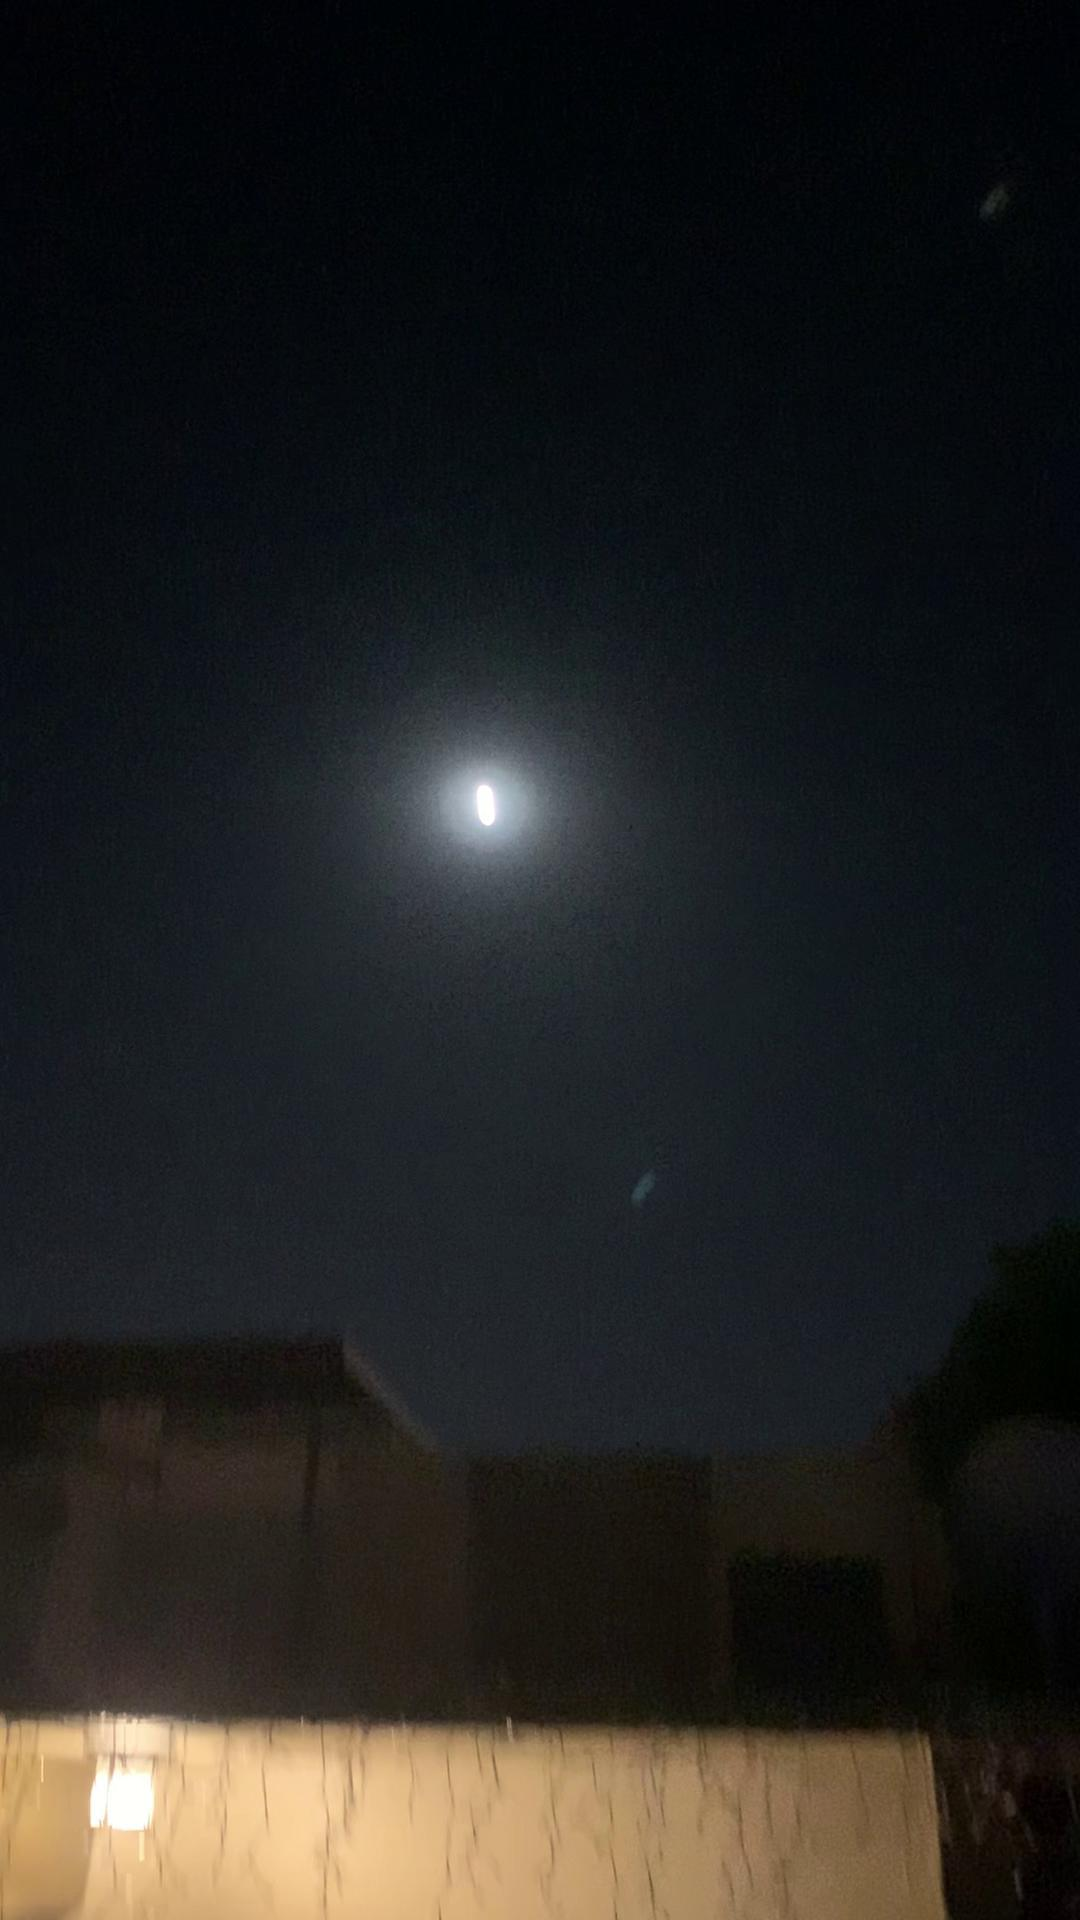moon: (451, 761, 538, 840)
